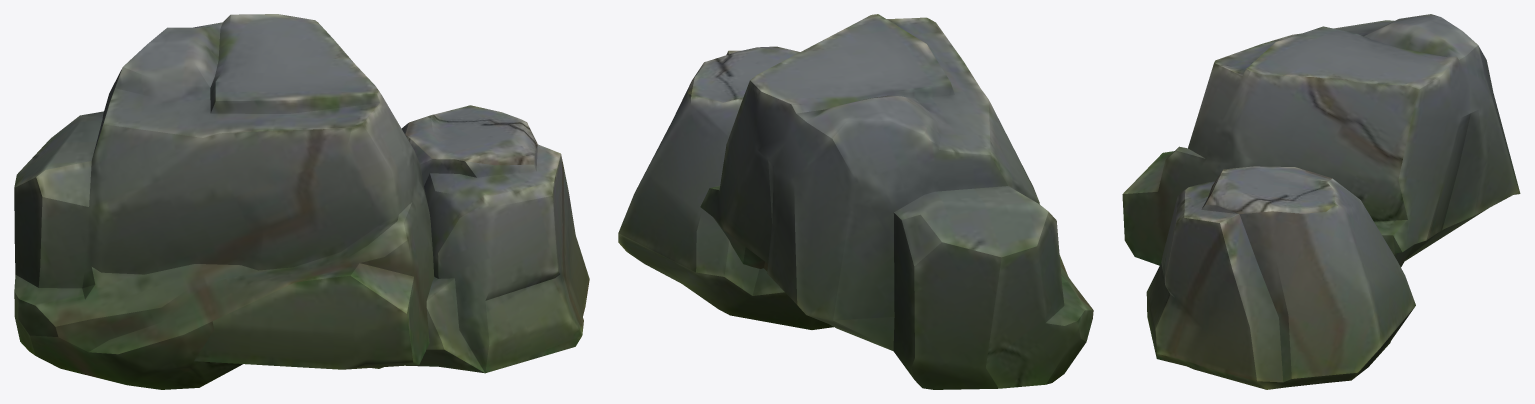
File: rocha-parfundido.glb
3 views of the same model, side by side, from view 1: azimuth 30°, elevation 25°; view 2: azimuth 150°, elevation 25°; view 3: azimuth 270°, elevation 25° (orthographic). The views are drawn at different scales.
Bounding box in the file's own units: 4.53 × 2.47 × 3.48.
1 material, 1 textured.
